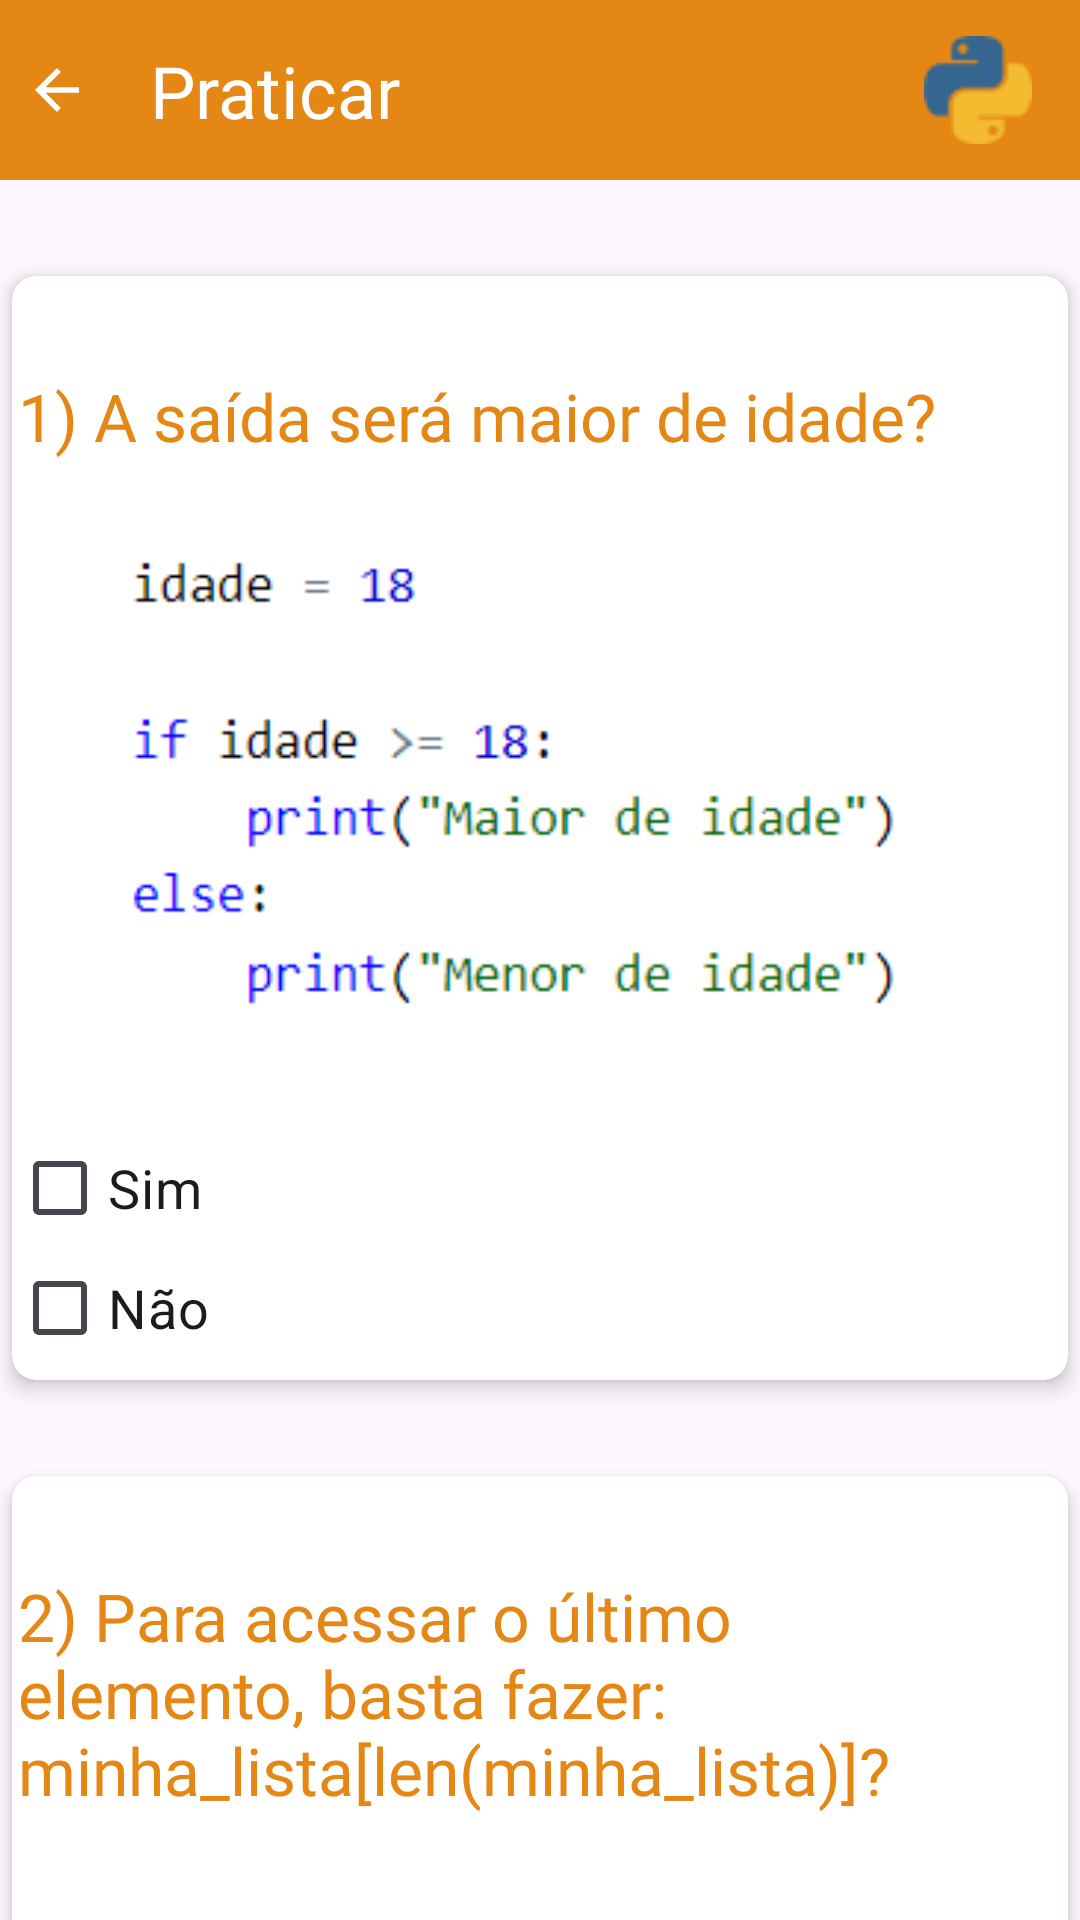

Where icons sit on this 1080px x 1920px app screen, as (x1,y1,x2,y2):
arrow back: (35,68,79,112)
